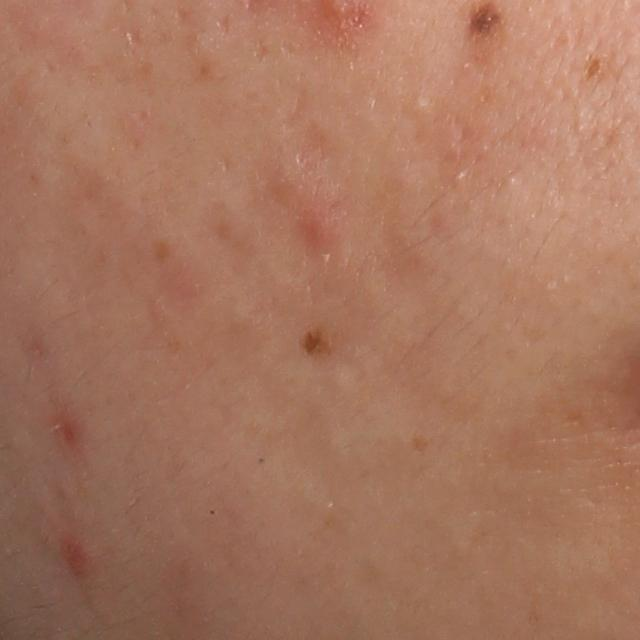atrophic_scar: (294, 119, 337, 181), (212, 11, 234, 38)
comedo: (410, 95, 433, 116)
nevus: (285, 321, 352, 362)
papule: (298, 204, 346, 254), (62, 533, 89, 576)
